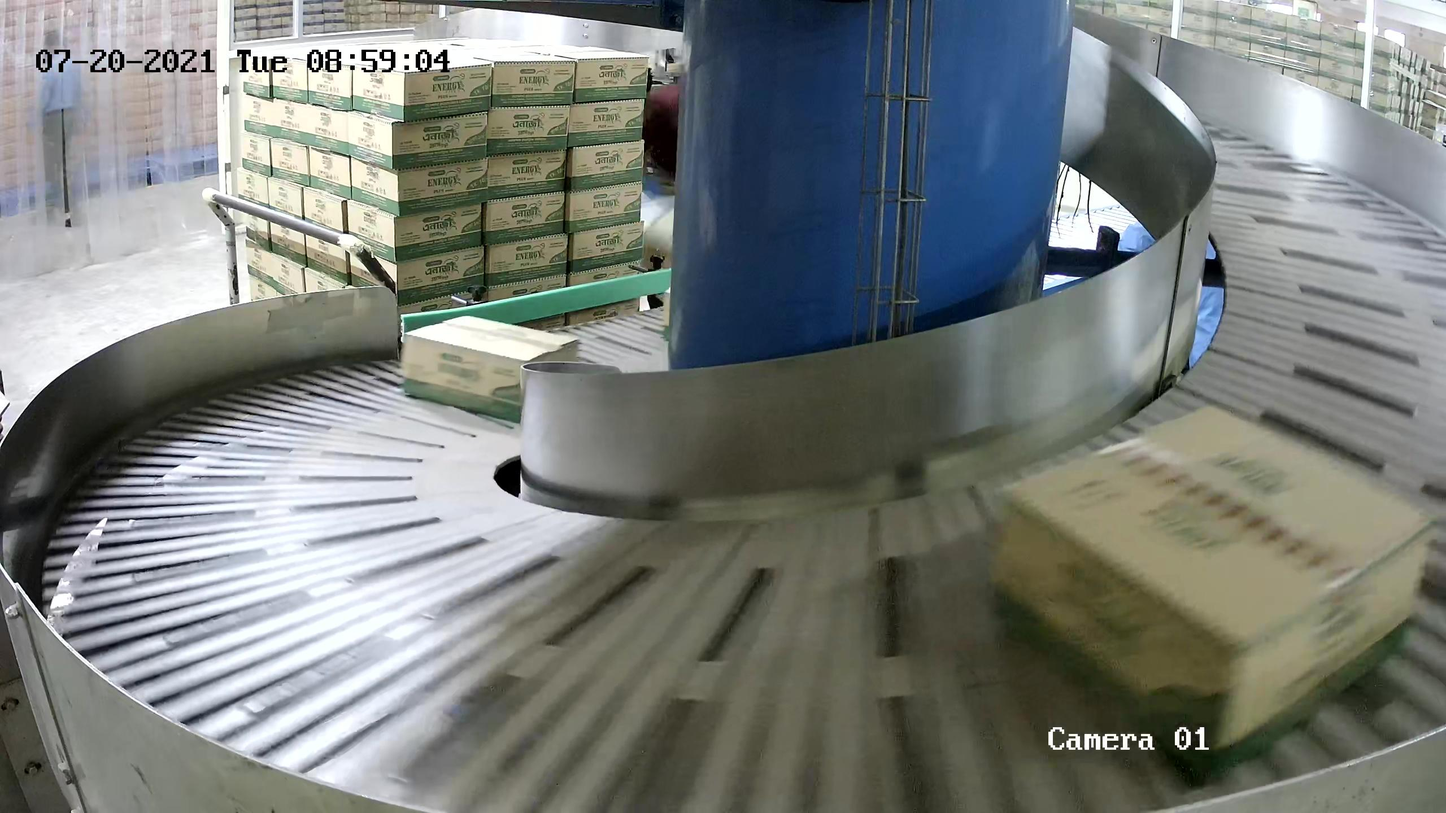Box: (986, 400, 1439, 788), (400, 315, 580, 423)
